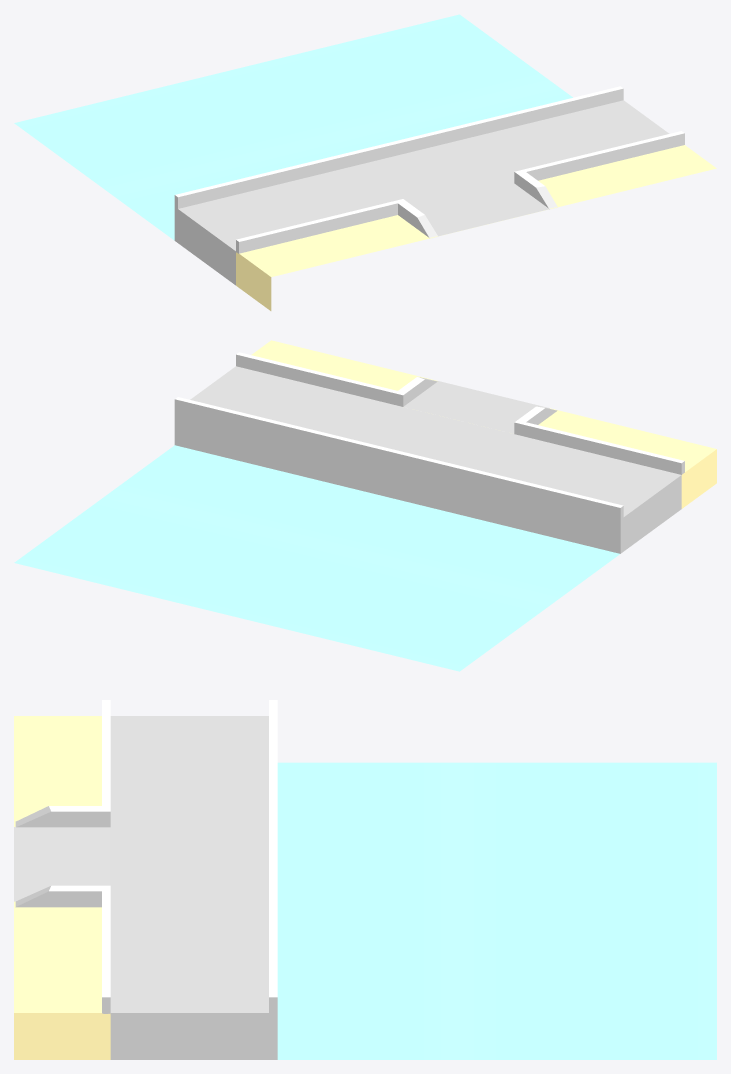
Rendered from port_tile_2x2_1.glb.
The picture shows the model from 3 angles, top to bottom: view 1: azimuth 30°, elevation 25°; view 2: azimuth 150°, elevation 25°; view 3: azimuth 270°, elevation 25°; orthographic projection. The views are drawn at different scales.
Visible parts, largest first — view 1: port_tile_2x2_1(Clone); view 2: port_tile_2x2_1(Clone); view 3: port_tile_2x2_1(Clone).
Part boxes in pixels (x1,y1,x2,y2): port_tile_2x2_1(Clone): (14, 14, 716, 310); port_tile_2x2_1(Clone): (14, 340, 716, 671); port_tile_2x2_1(Clone): (14, 700, 716, 1059).
Size of the model in its own units: 16 by 1.58 by 16.
Materials: 1 (1 with a texture image).
